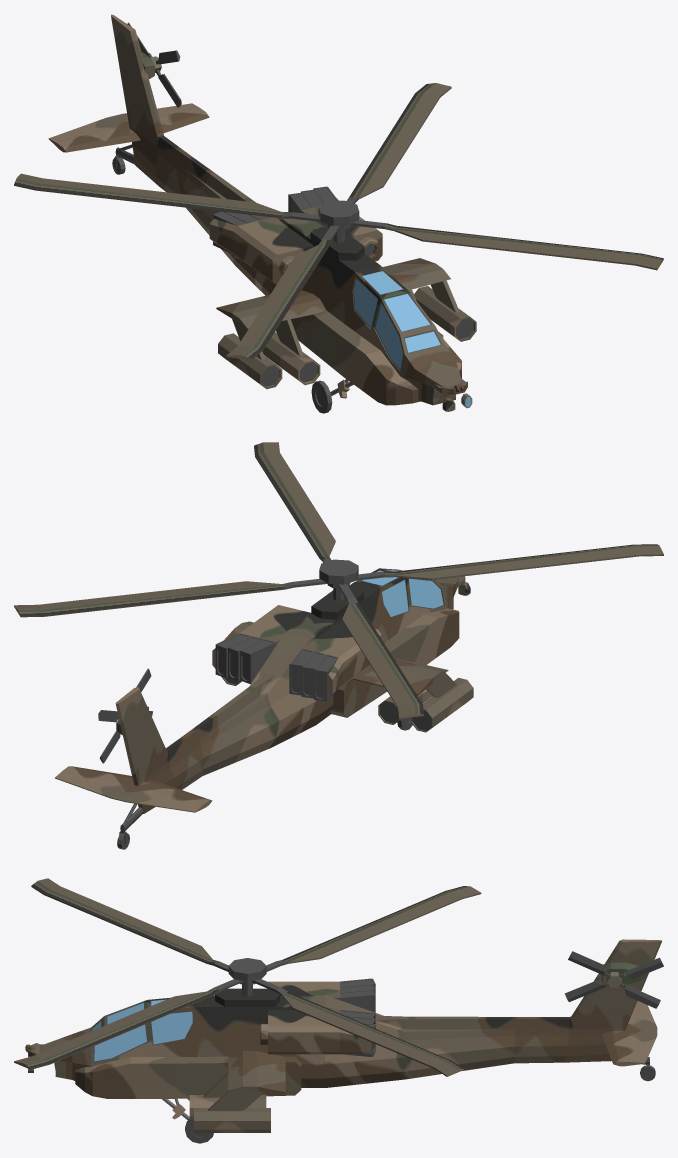
Rendered from heli4.glb.
The picture shows the model from 3 angles, top to bottom: view 1: azimuth 30°, elevation 25°; view 2: azimuth 150°, elevation 25°; view 3: azimuth 270°, elevation 25°; orthographic projection. The views are drawn at different scales.
Parts seen in each view (by area): view 1: Object_27; view 2: Object_27; view 3: Object_27.
Part boxes in pixels (left/top/right/bottom): Object_27: left=14, top=14, right=663, bottom=413; Object_27: left=14, top=442, right=663, bottom=849; Object_27: left=14, top=878, right=663, bottom=1143.
Size of the model in its own units: 5.4 by 2.33 by 7.51.
Materials: 4 (1 with a texture image).
